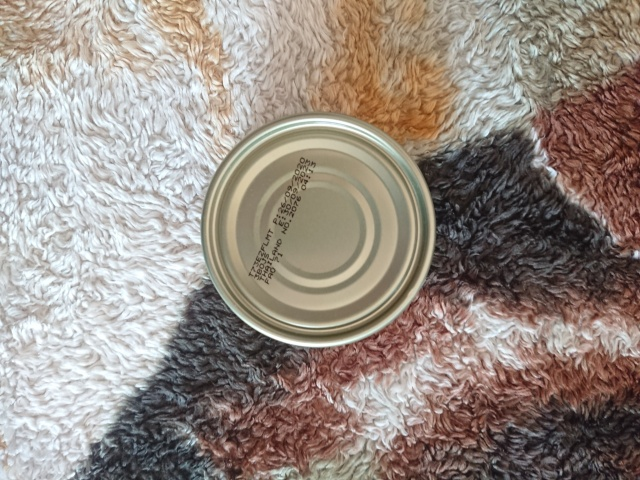Giana Tuna Salad Mexico 185g: (196, 110, 439, 352)
